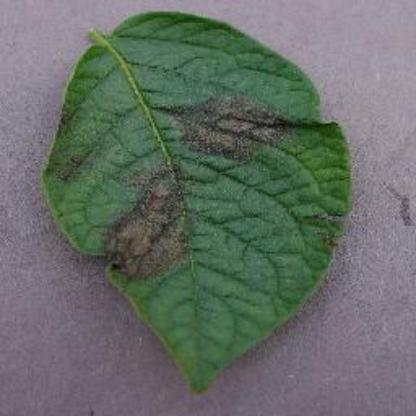Late-Blight: (44, 10, 354, 392)
